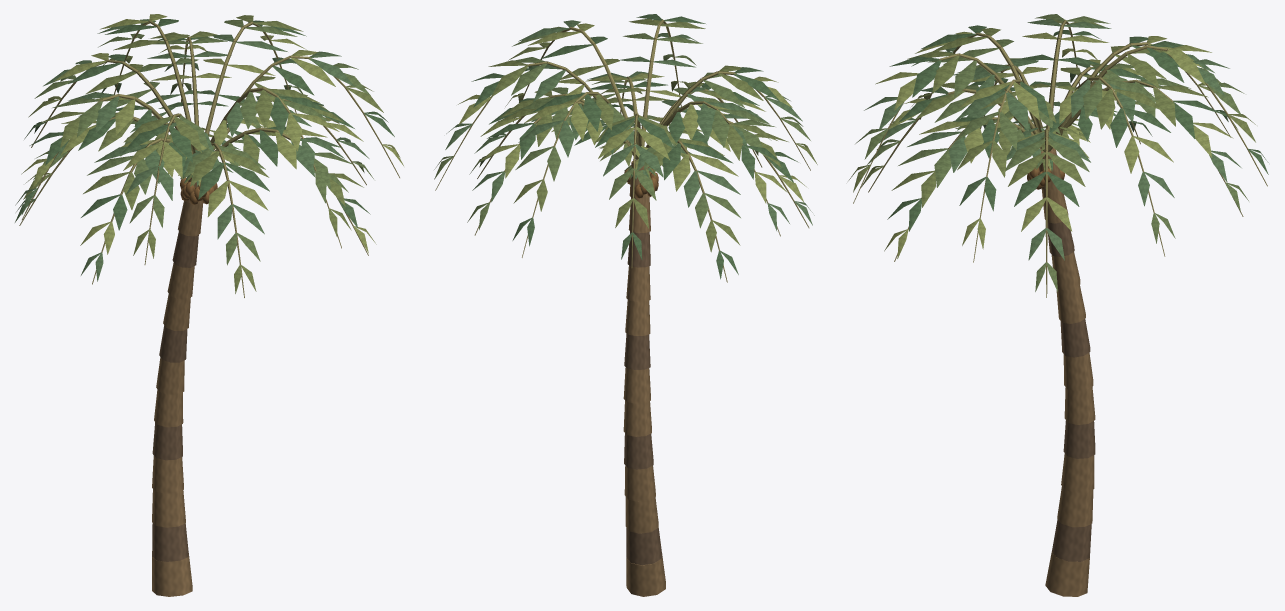
Rendered from date-palm-near.glb.
3 renders of one model, left to right at view 1: azimuth 30°, elevation 25°; view 2: azimuth 150°, elevation 25°; view 3: azimuth 270°, elevation 25°, orthographic. The views are drawn at different scales.
Parts seen in each view (by area): view 1: Crown_Foliage, Trunk_Wood; view 2: Crown_Foliage, Trunk_Wood; view 3: Crown_Foliage, Trunk_Wood.
Part boxes in pixels (x1=…): Crown_Foliage: x1=15, y1=14, x2=403, y2=293; Trunk_Wood: x1=19, y1=20, x2=399, y2=596; Crown_Foliage: x1=434, y1=14, x2=817, y2=279; Trunk_Wood: x1=435, y1=19, x2=810, y2=596; Crown_Foliage: x1=848, y1=14, x2=1268, y2=291; Trunk_Wood: x1=853, y1=19, x2=1267, y2=596.
Size of the model in its own units: 6.63 by 10.02 by 6.92.
Materials: 2 (2 with a texture image).
